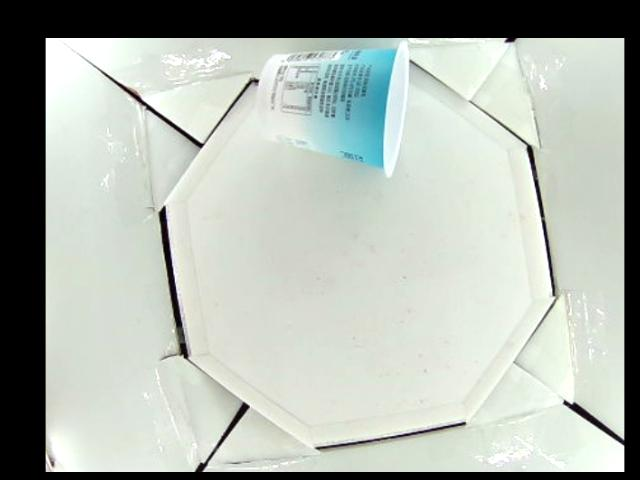Cup: (260, 41, 410, 178)
